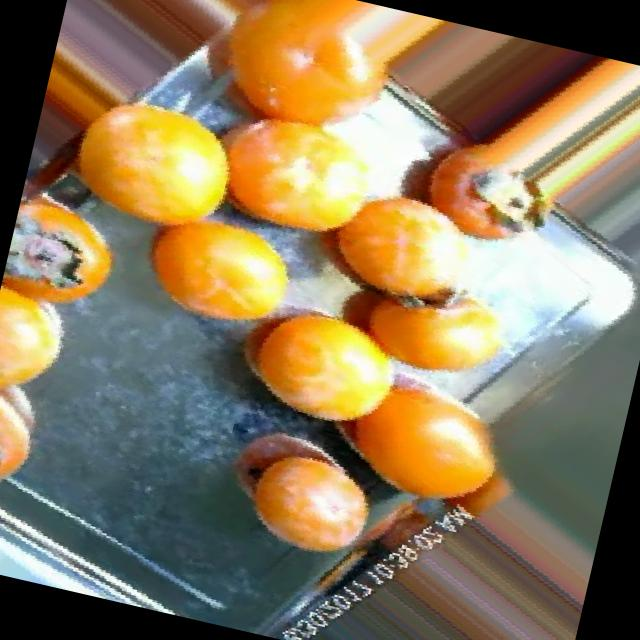Fruit: (30, 78, 264, 263), (192, 393, 412, 588), (115, 199, 321, 357)
